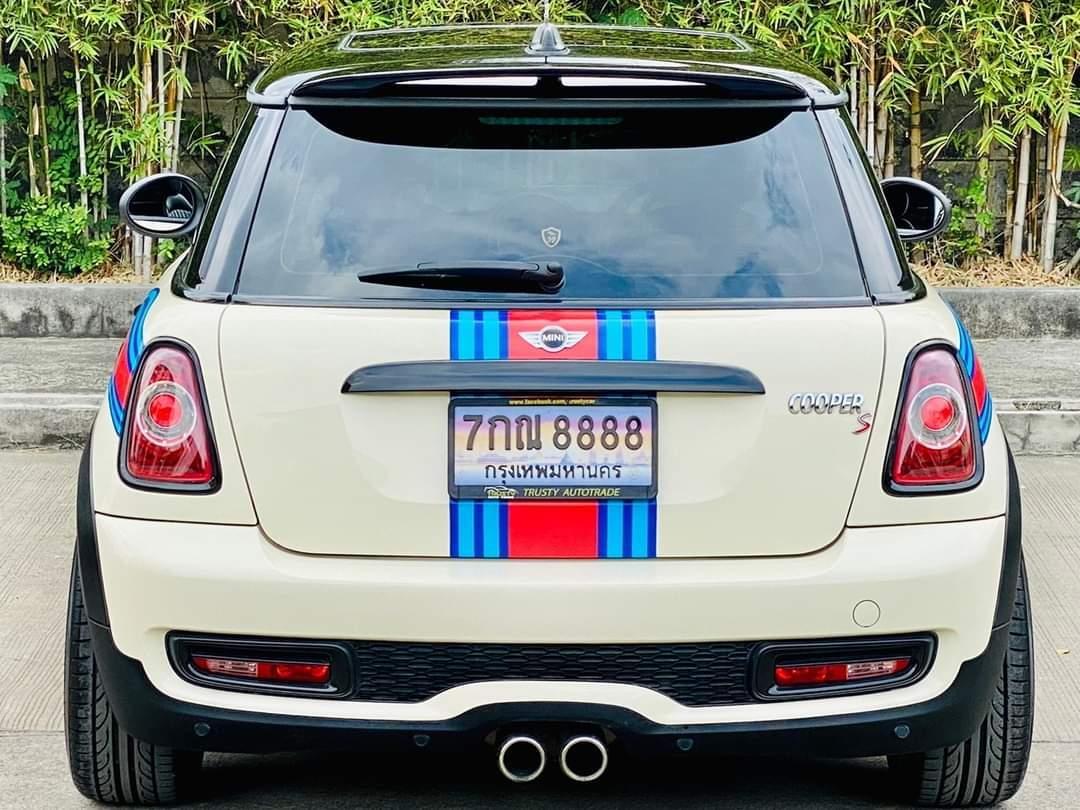license-plate: (450, 397, 660, 503)
